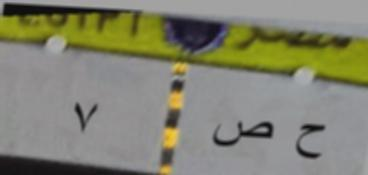7: (69, 94, 101, 138)
7aa: (292, 113, 328, 164)
saad: (205, 112, 276, 154)
